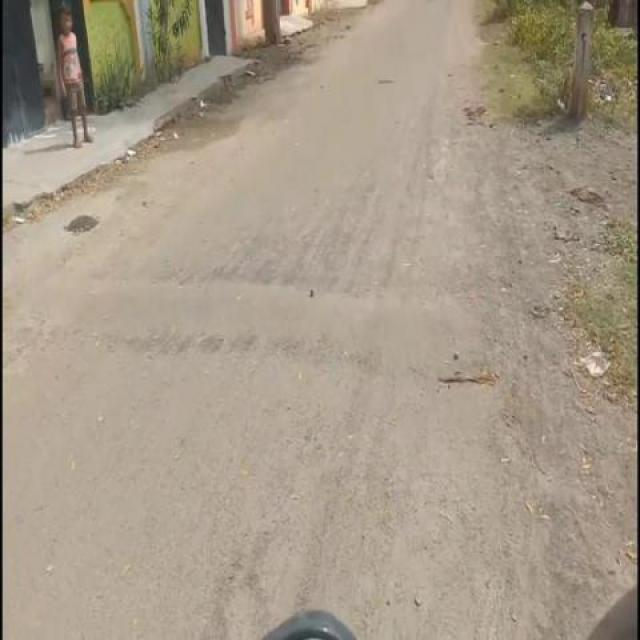Unmarked Bump: (24, 270, 474, 369)
